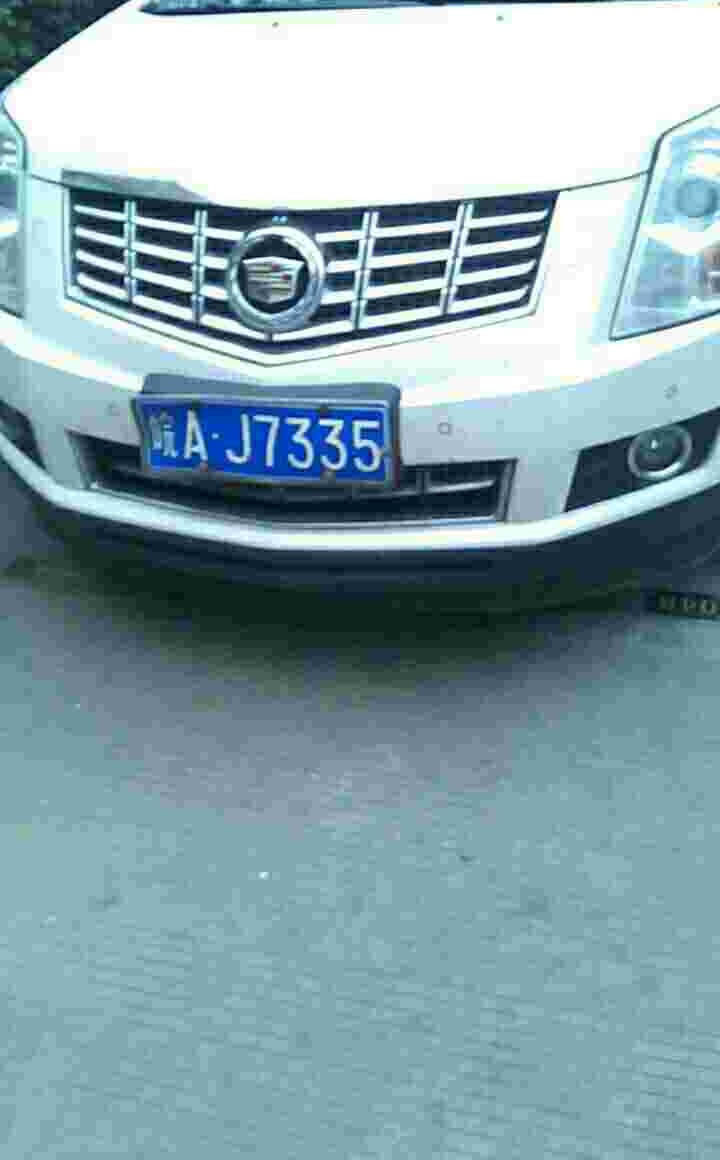plate: (139, 392, 394, 489)
